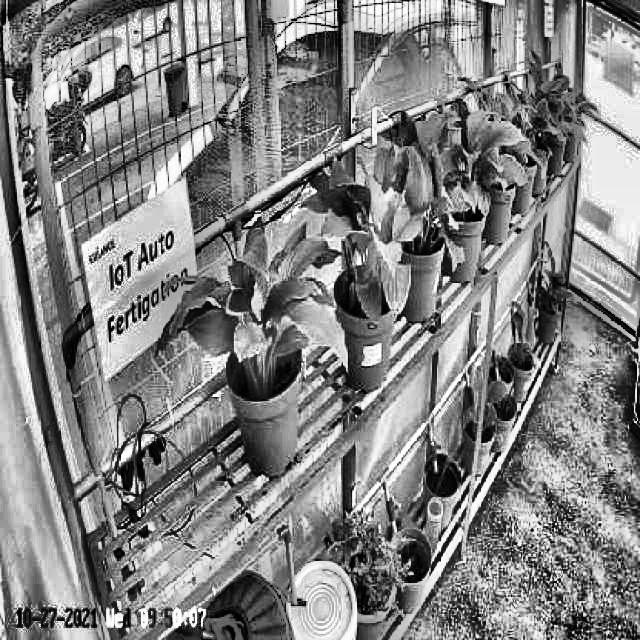plants: (155, 211, 348, 400), (308, 163, 414, 331), (368, 137, 463, 271), (424, 96, 530, 216)
